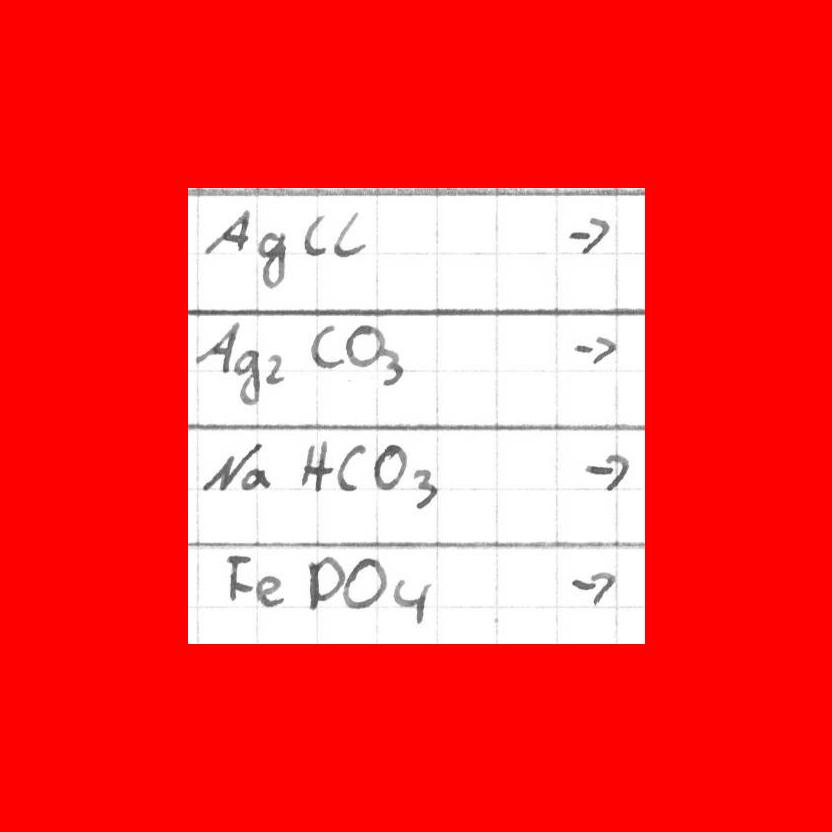Char: (203, 208, 250, 256), (564, 213, 613, 259), (194, 319, 237, 371), (345, 558, 387, 611), (201, 447, 254, 489), (304, 555, 343, 610), (390, 577, 435, 624), (296, 439, 333, 495), (255, 228, 288, 289), (567, 570, 619, 608), (333, 207, 366, 265), (581, 454, 630, 492), (222, 548, 254, 606), (343, 324, 382, 367), (231, 348, 260, 405), (372, 442, 405, 492), (309, 323, 343, 370), (336, 439, 364, 495), (572, 333, 619, 366), (411, 465, 439, 511), (302, 210, 328, 257), (254, 571, 286, 608), (378, 347, 402, 386), (238, 467, 271, 492), (264, 350, 285, 387)
